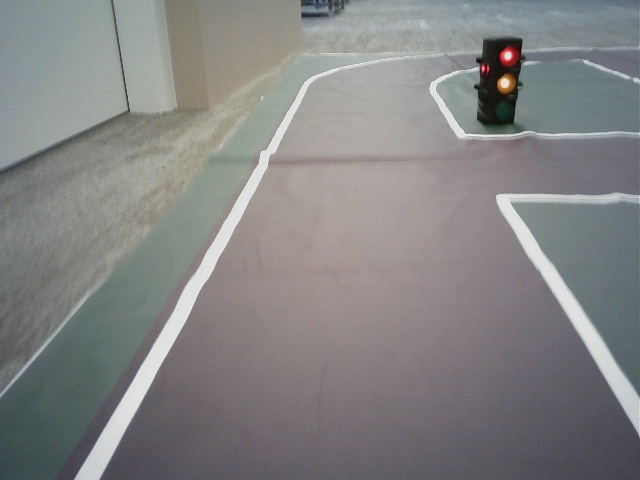red: (494, 42, 516, 125)
